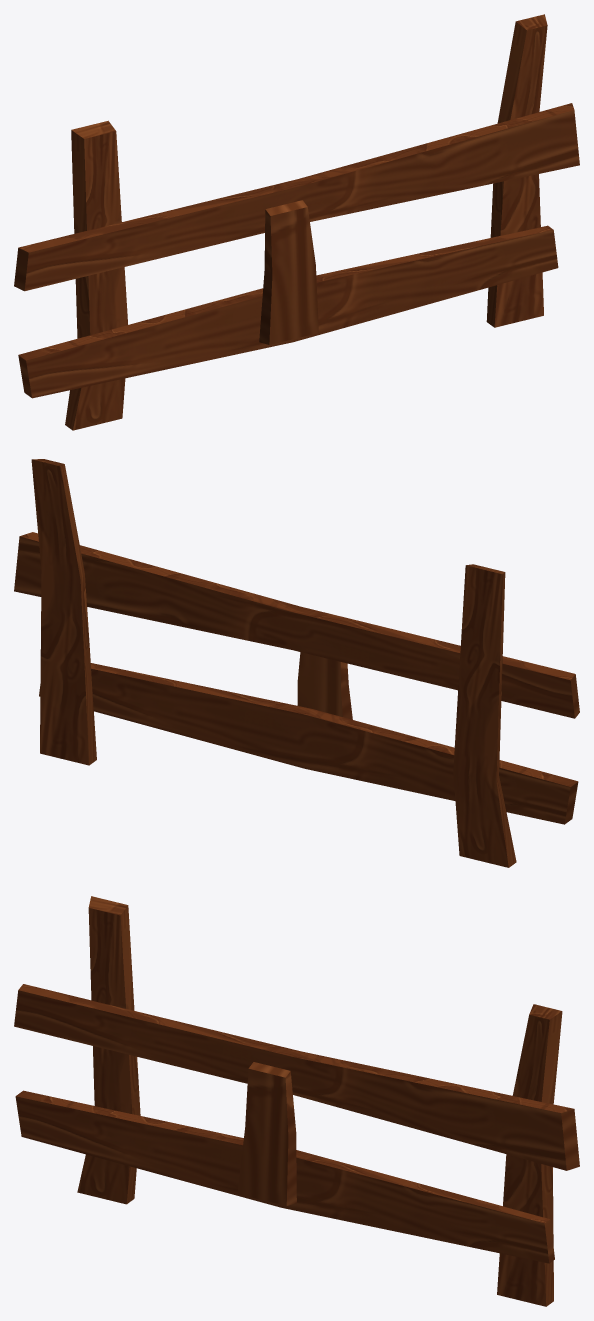
Rendered from 2_Valla_Oscura.fbx.
3 views of the same model, one above another, from view 1: azimuth 30°, elevation 25°; view 2: azimuth 150°, elevation 25°; view 3: azimuth 330°, elevation 25° (orthographic).
Visible parts, largest first — view 1: V_Valla2_Oscuro; view 2: V_Valla2_Oscuro; view 3: V_Valla2_Oscuro.
Part boxes in pixels (box(x1,y1,x2,y2)): V_Valla2_Oscuro: box(14, 14, 579, 430); V_Valla2_Oscuro: box(14, 459, 579, 867); V_Valla2_Oscuro: box(14, 896, 579, 1306).
Bounding box in the file's own units: 114 × 56.77 × 8.99.
